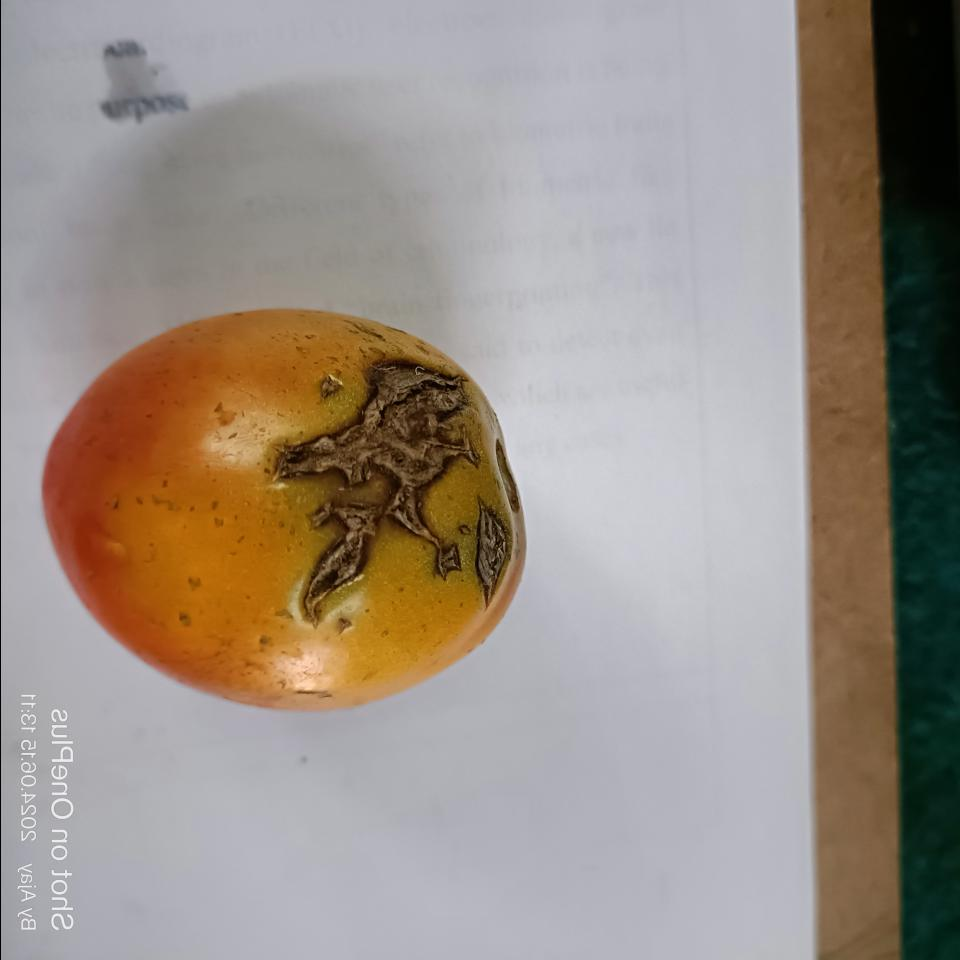Bacterial_Spot: (281, 357, 471, 620), (471, 504, 515, 598)
